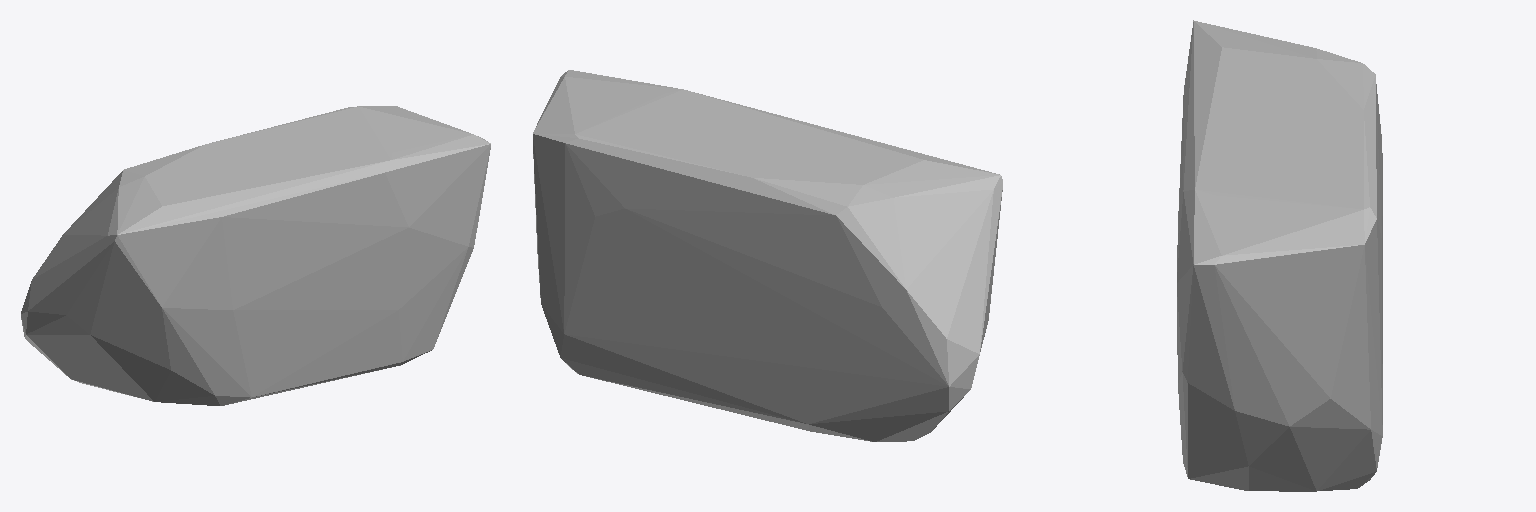
robot.urdf — root:
<robot name="root">
  <link name="link_rock11_convex_piece_0">
    <inertial>
      <origin rpy="0 0 0" xyz="0 0 0"/>
      <mass value="1.09E+06"/>
      <inertia ixx="1.96E+09" ixy="-3.71E+08" ixz="5.33E+08" iyy="3.71E+09" iyz="-8.83E+07" izz="2.38E+09"/>
    </inertial>
    <visual>
      <origin rpy="0 0 0" xyz="0 0 0"/>
      <geometry>
        <mesh filename="rock11_convex_piece_0.obj" scale="1.0000E+00 1.0000E+00 1.0000E+00"/>
      </geometry>
      <material name="">
        <color rgba="7.50E-01 7.50E-01 7.50E-01 1"/>
      </material>
    </visual>
    <collision>
      <origin rpy="0 0 0" xyz="0 0 0"/>
      <geometry>
        <mesh filename="rock11_convex_piece_0.obj" scale="1.0000E+00 1.0000E+00 1.0000E+00"/>
      </geometry>
    </collision>
  </link>
</robot>

--- Render facts (derived) ---
Views: 3 orthographic renders of the robot side by side, from view 1: azimuth 30°, elevation 25°; view 2: azimuth 150°, elevation 25°; view 3: azimuth 270°, elevation 25°.
Robot: root — 1 links, 0 joints (none); root link link_rock11_convex_piece_0; default pose: every joint at zero.
Links seen in each view (by area): view 1: link_rock11_convex_piece_0; view 2: link_rock11_convex_piece_0; view 3: link_rock11_convex_piece_0.
Boxes of the visible links, left/top/right/bottom form: link_rock11_convex_piece_0: left=21, top=106, right=490, bottom=405; link_rock11_convex_piece_0: left=533, top=70, right=1002, bottom=441; link_rock11_convex_piece_0: left=1177, top=20, right=1382, bottom=491.
Size in the robot's own frame: 208 by 67.83 by 102 metres.
Meshes: 1 distinct files referenced, 1 mesh visuals loaded (1 OBJ).